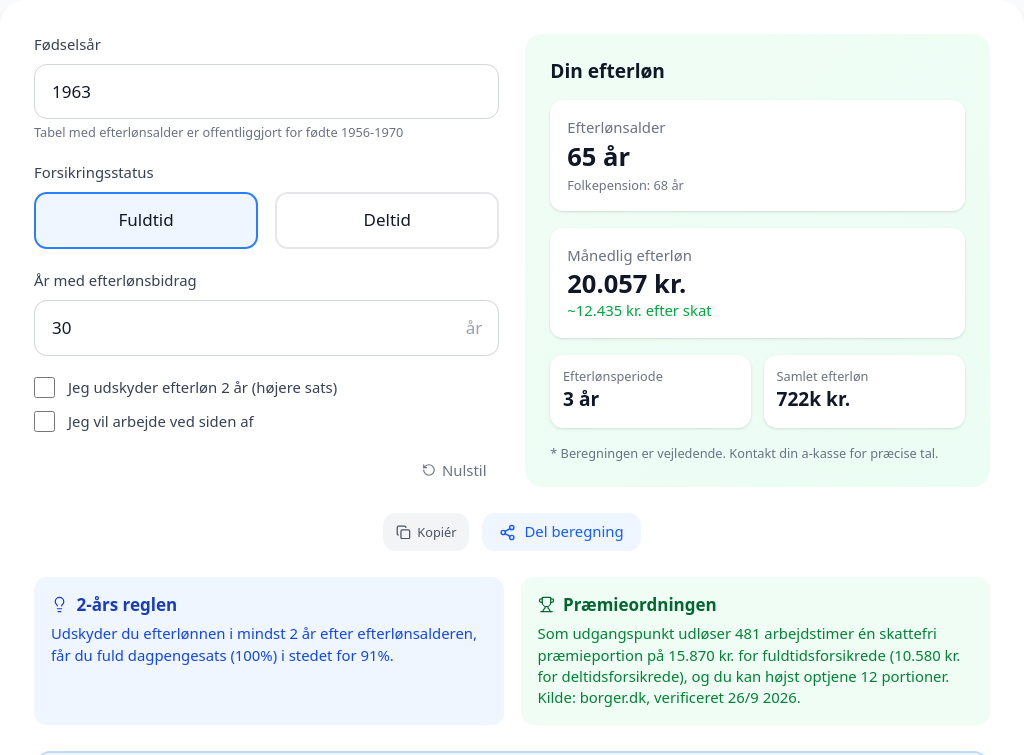
Feltnavn for skærmlæsere — de fire mest besøgte beregnere › da › /efterloen: arbejdstimer-feltet dukker op med navn, når checkboksen sættes
The image size is (1024, 755).
Click the checkbox with id "efterloen-arbejder-sidenom" at (45, 422), box [34,411,55,432]
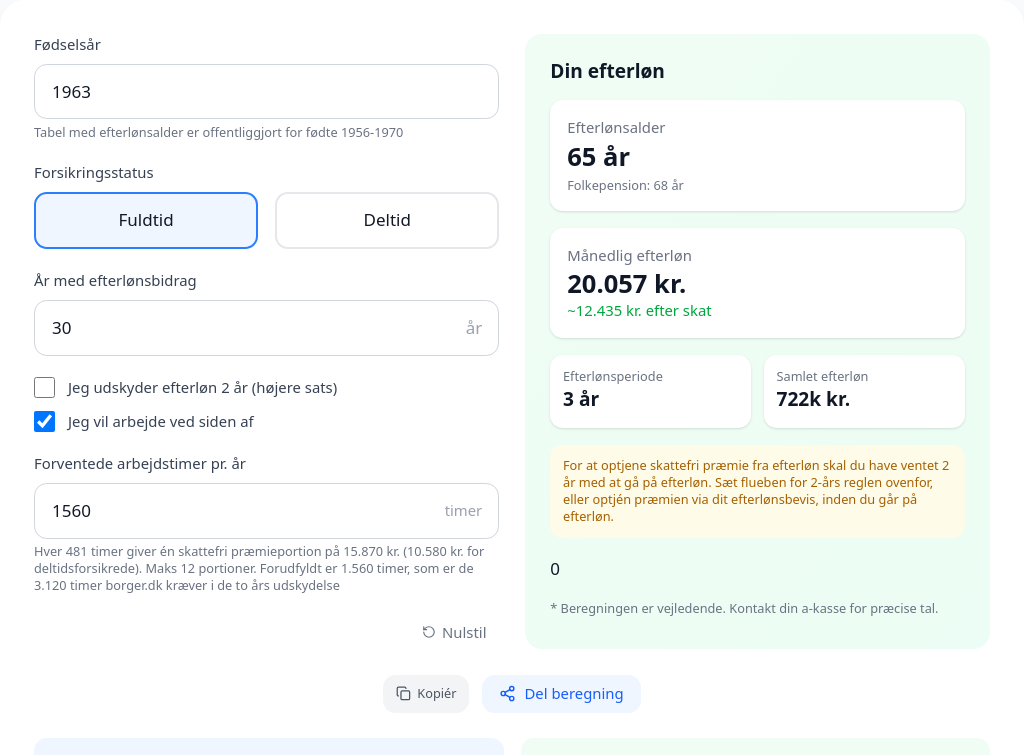
Expected: the number field labelled "Fødselsår" is shown, [34,64,499,119]
Result: the number field labelled "Forventede arbejdstimer pr. år" is shown at [34,483,499,539]
Result: the label "Forventede arbejdstimer pr. år" is shown at [34,453,246,473]
